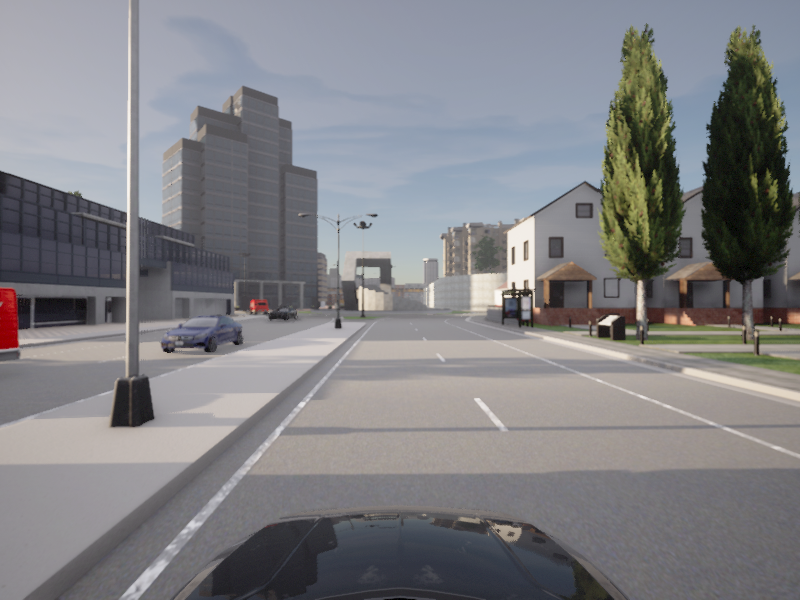vehicle: (0, 268, 27, 434), (154, 313, 248, 355), (264, 305, 299, 321)
